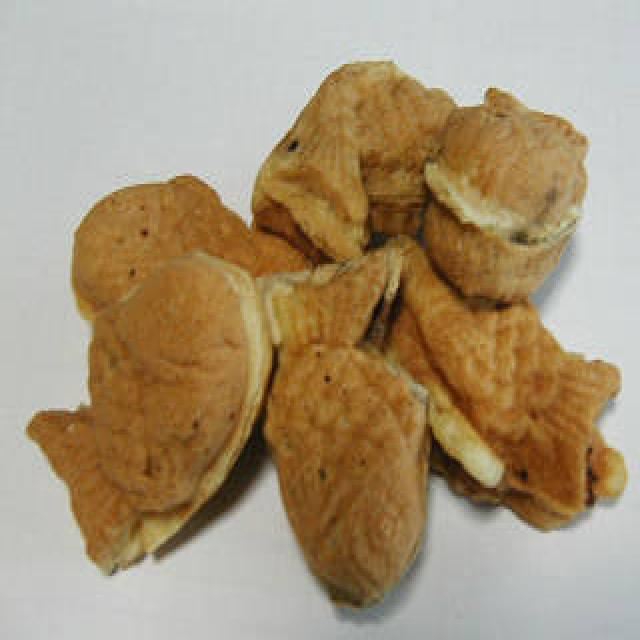熟制海鲜: (36, 59, 640, 629)
